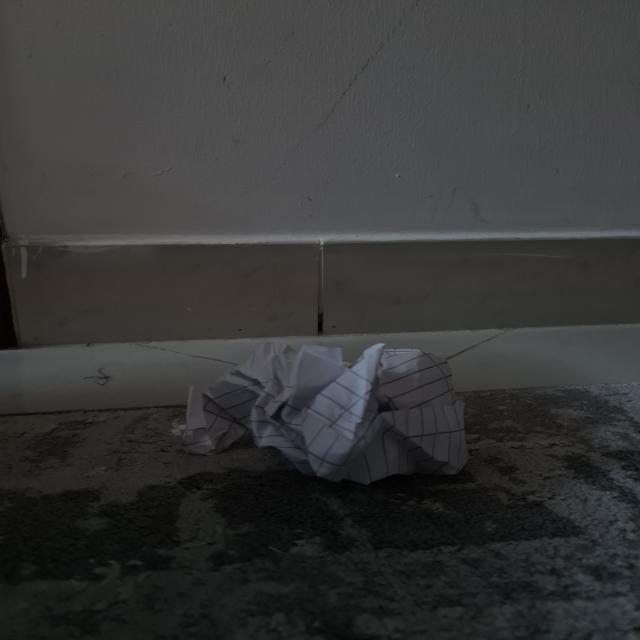Paper: (179, 344, 466, 486)
